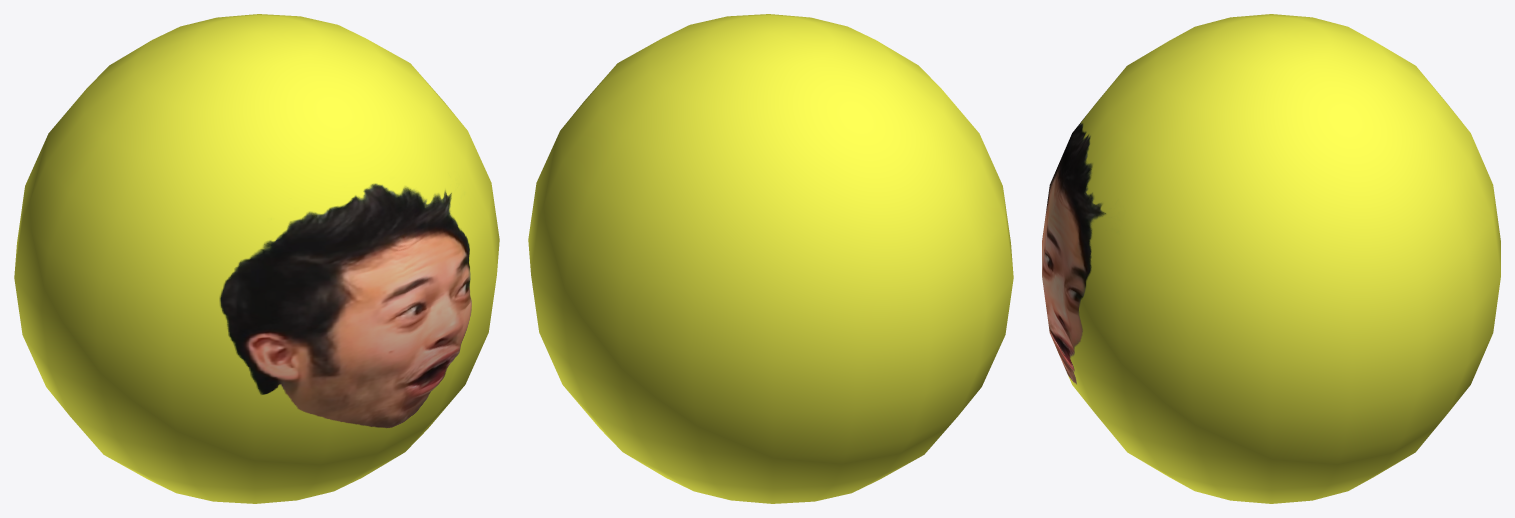
The model's file is pogChampHead.fbx.
The picture shows the model from 3 angles, left to right: view 1: azimuth 30°, elevation 25°; view 2: azimuth 150°, elevation 25°; view 3: azimuth 270°, elevation 25°; orthographic projection.
Visible parts, largest first — view 1: nurbsToPoly1; view 2: nurbsToPoly1; view 3: nurbsToPoly1.
Part boxes in pixels (box(x1,y1,x2,y2)): nurbsToPoly1: box(14, 14, 499, 503); nurbsToPoly1: box(528, 14, 1013, 503); nurbsToPoly1: box(1042, 14, 1500, 503).
Bounding box in the file's own units: 2 × 2 × 1.86.
